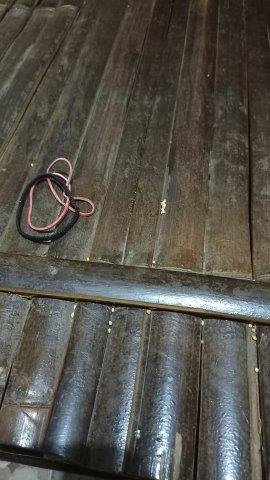karet: (16, 158, 96, 242)
